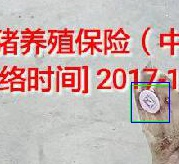text: (130, 85, 169, 121)
